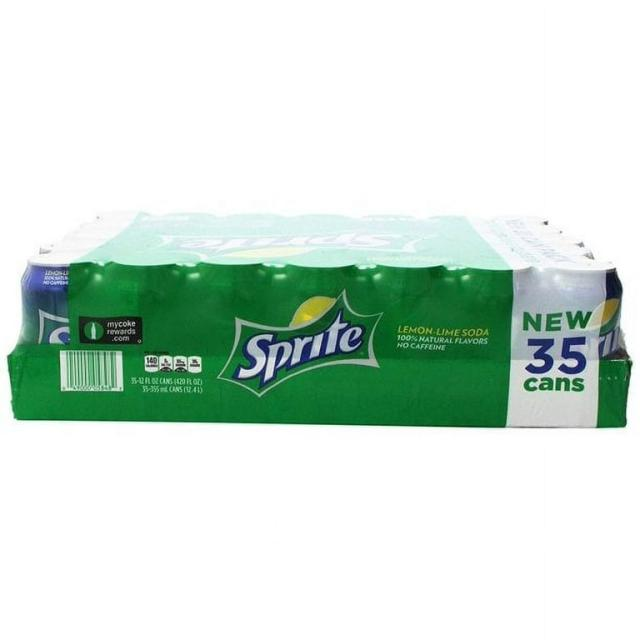sprite: (16, 237, 118, 406), (568, 255, 640, 425)
